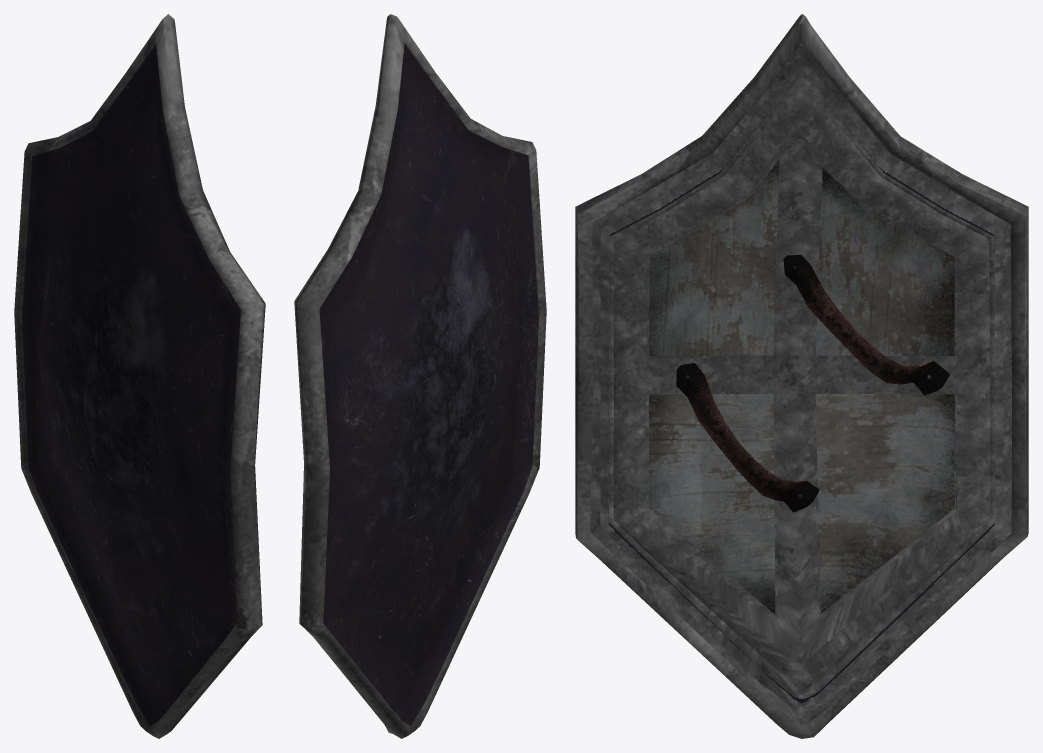
The model's file is Shield.fbx.
3 renders of one model, left to right at view 1: azimuth 30°, elevation 25°; view 2: azimuth 150°, elevation 25°; view 3: azimuth 270°, elevation 25°, orthographic.
Parts seen in each view (by area): view 1: Shield; view 2: Shield; view 3: Shield.
Boxes of the visible parts, x1,y1,x2,y2 form: Shield: [14, 14, 265, 738]; Shield: [294, 14, 546, 738]; Shield: [575, 14, 1028, 738].
Bounding box in the file's own units: 11.76 × 96.94 × 54.68.
1 material, 1 textured.
